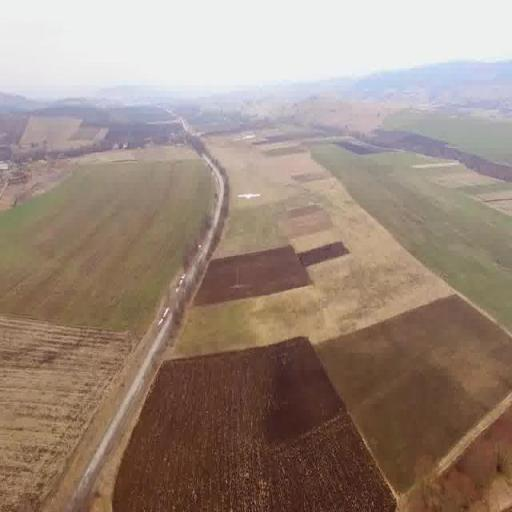uav: (235, 186, 261, 205)
